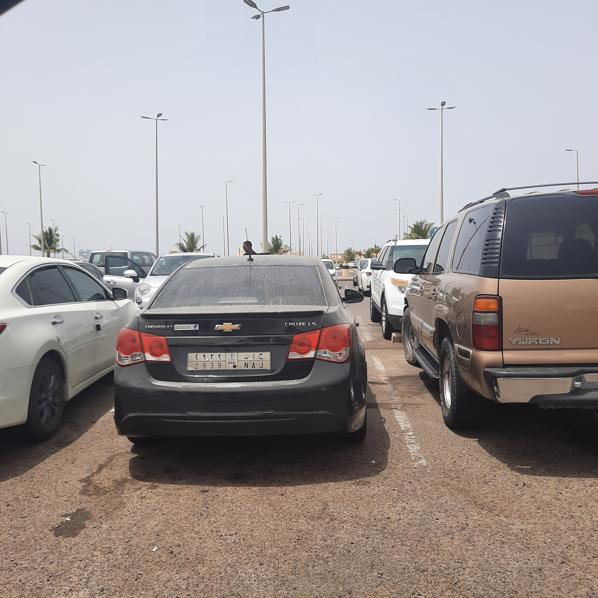numberplate: (187, 352, 272, 370)
